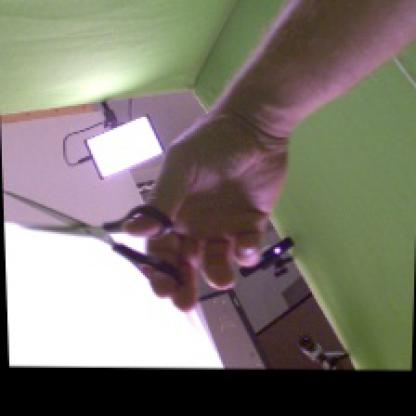Hand: (126, 107, 288, 314)
